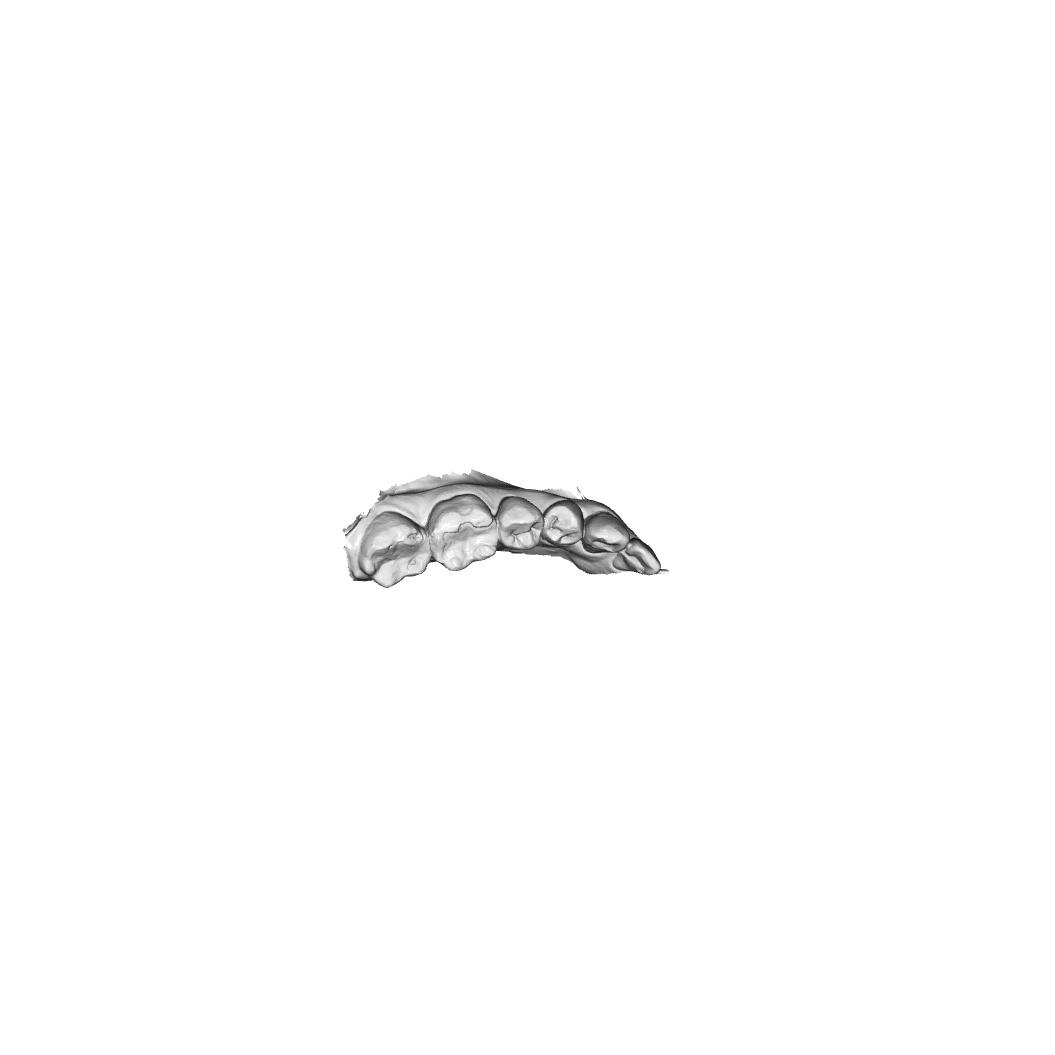canine: (583, 511, 633, 557)
incisor: (611, 534, 662, 578)
molar: (357, 509, 431, 590), (426, 492, 499, 573)
premolar: (496, 495, 544, 552), (541, 497, 585, 549)
